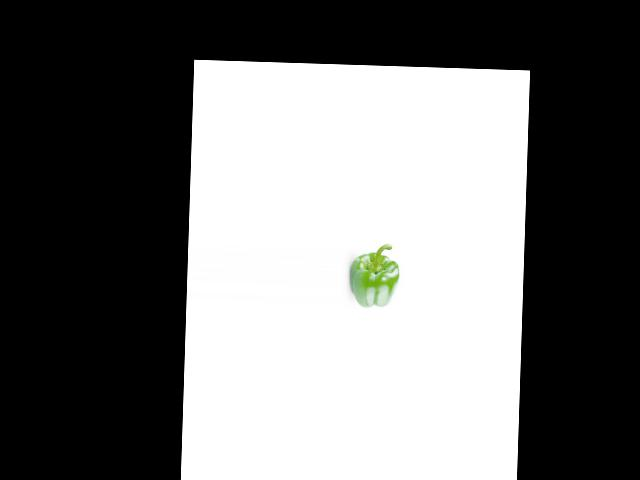bell_pepper: (349, 241, 401, 310)
